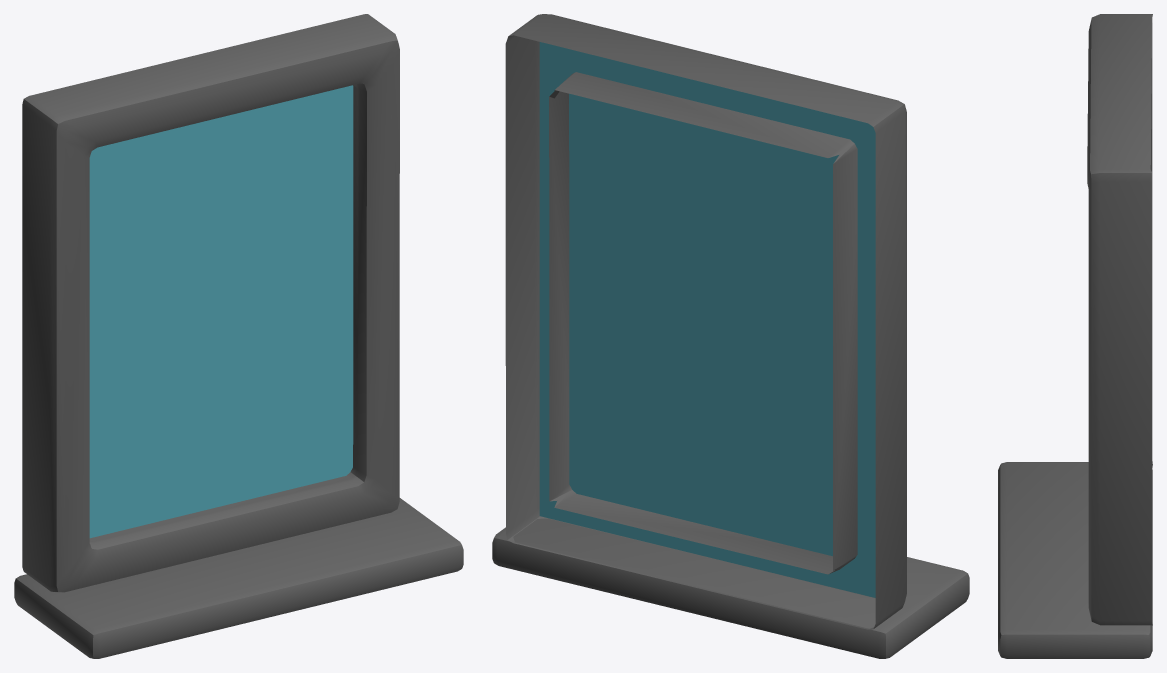
File: SM_window_01.fbx
3 views of the same model, side by side, from view 1: azimuth 30°, elevation 25°; view 2: azimuth 150°, elevation 25°; view 3: azimuth 270°, elevation 25° (orthographic). The views are drawn at different scales.
Visible parts, largest first — view 1: Box406; view 2: Box406; view 3: Box406.
Boxes of the visible parts, box(x1,y1,x2,y2) form: Box406: box(14, 14, 463, 658); Box406: box(492, 14, 969, 658); Box406: box(998, 14, 1152, 658).
Bounding box in the file's own units: 38.54 × 49.62 × 14.46.
